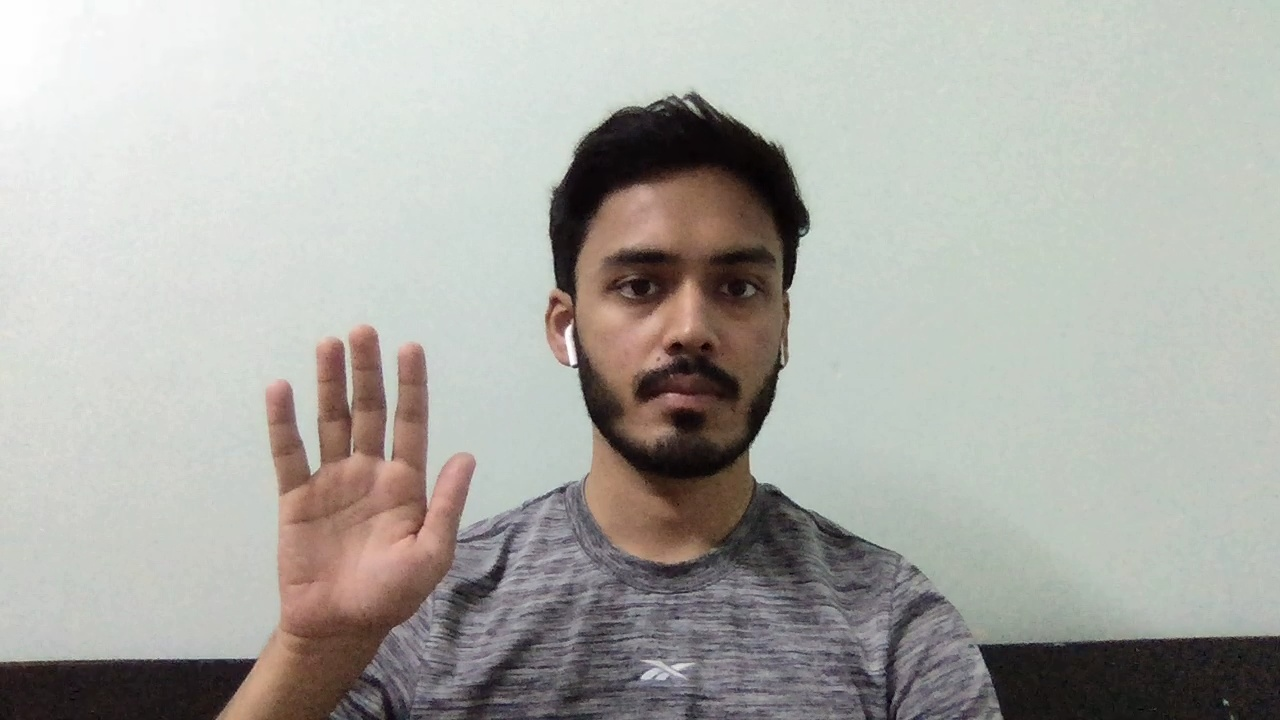Hello: (251, 308, 486, 655)
